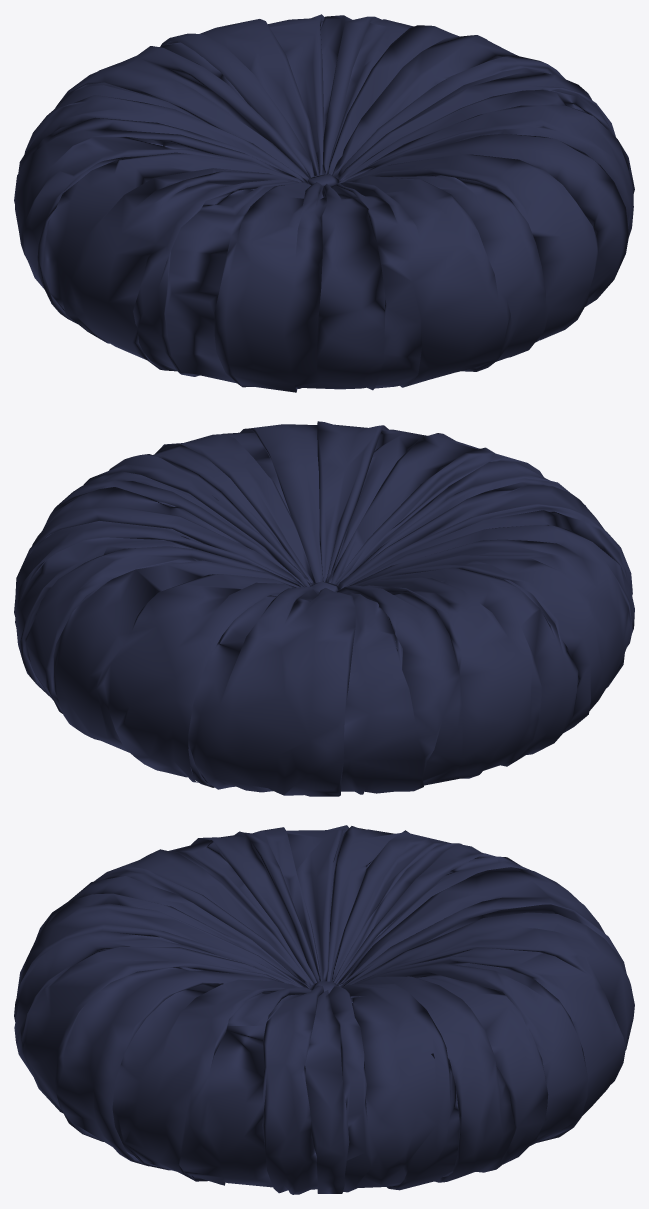
Rendered from SpecularSilkPouf.glb.
3 views of the same model, one above another, from view 1: azimuth 30°, elevation 25°; view 2: azimuth 150°, elevation 25°; view 3: azimuth 270°, elevation 25° (orthographic).
Parts seen in each view (by area): view 1: SpecularSilkPouf; view 2: SpecularSilkPouf; view 3: SpecularSilkPouf.
Boxes of the visible parts, <box> form: SpecularSilkPouf: <box>14,14,634,392</box>; SpecularSilkPouf: <box>14,421,634,796</box>; SpecularSilkPouf: <box>14,825,634,1194</box>.
Size of the model in its own units: 0.6099 by 0.1967 by 0.6098.
